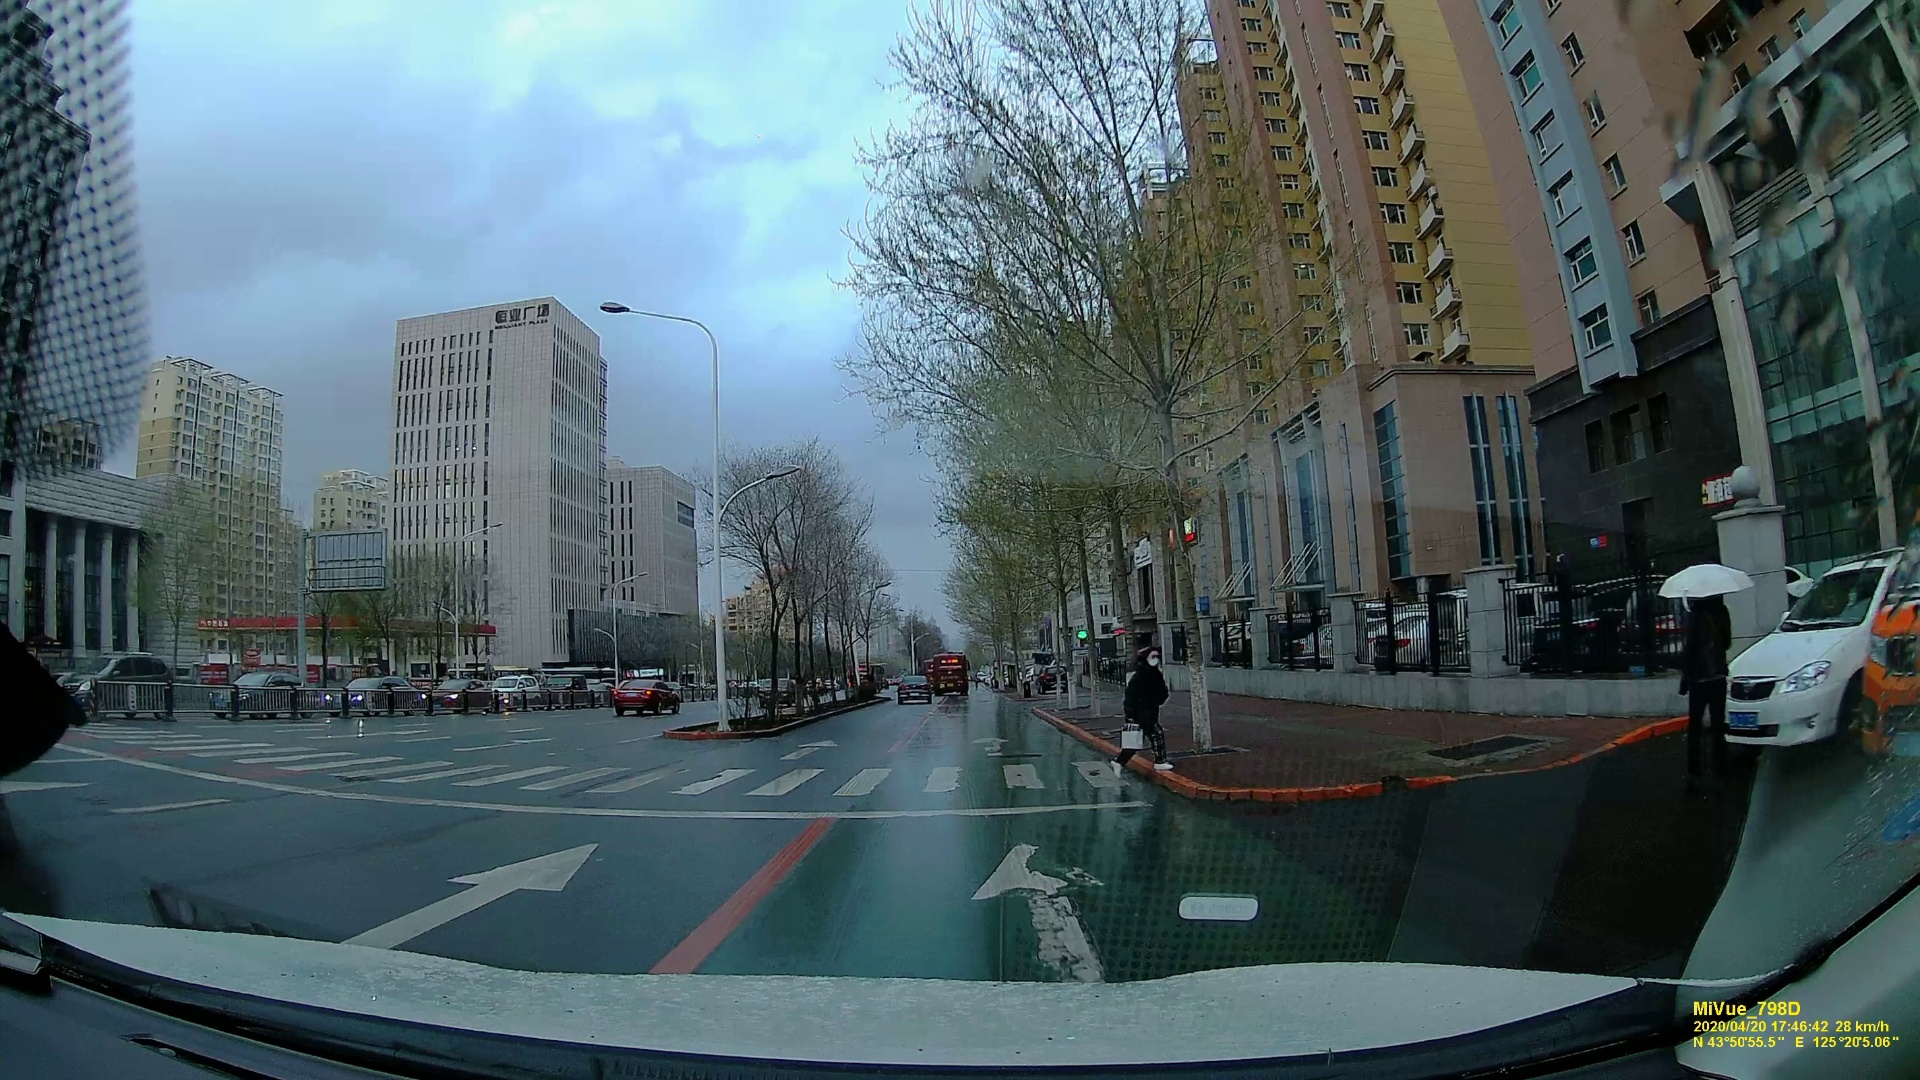bus: (930, 649, 967, 695)
person: (1674, 574, 1736, 750), (1113, 640, 1189, 780)
vehicle: (1721, 556, 1887, 739), (606, 675, 680, 717), (892, 674, 931, 705)
